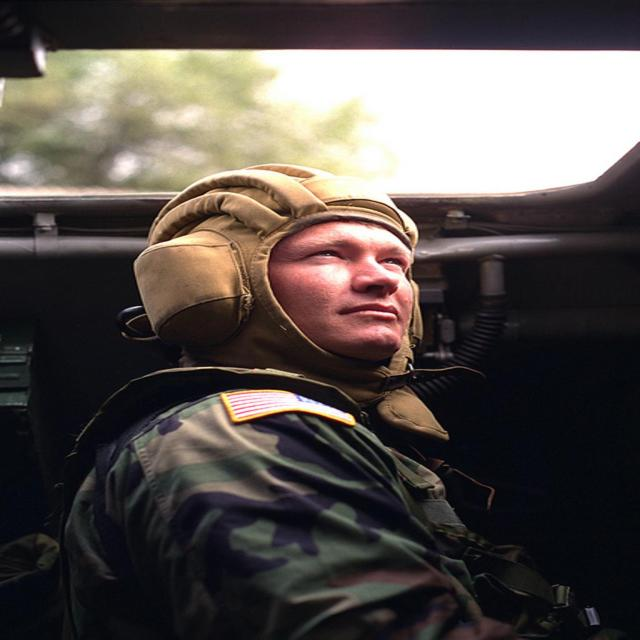Face: (241, 218, 444, 360)
